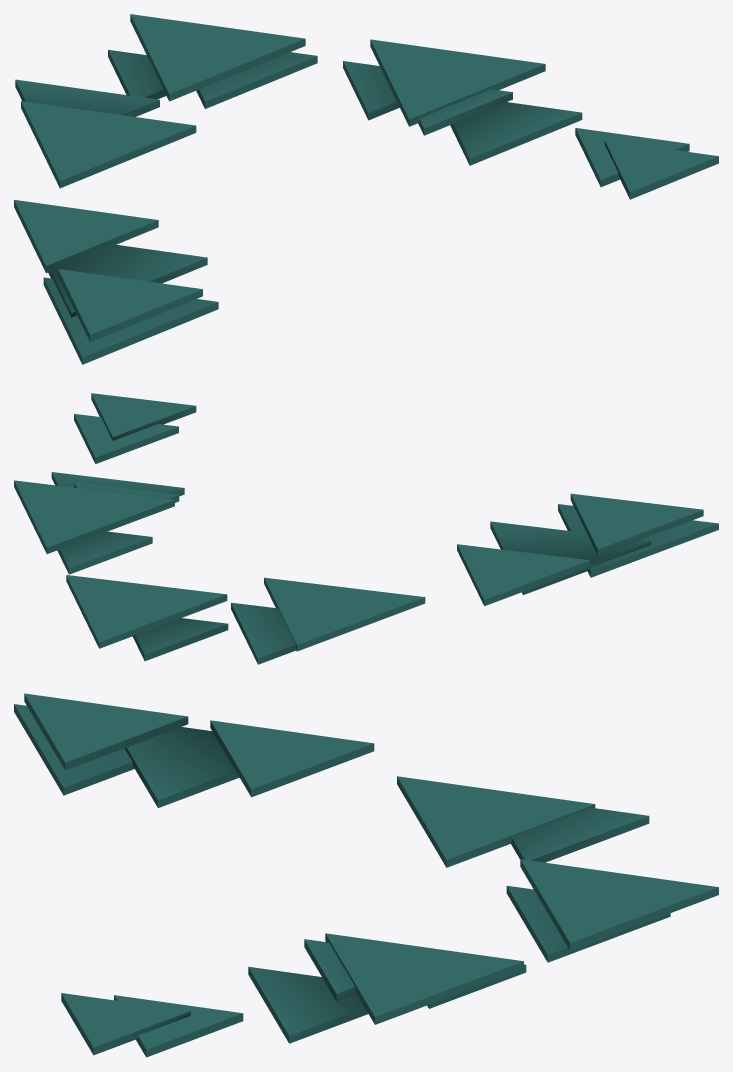
File: decay.broken-glass.glb
3 renders of one model, top to bottom at view 1: azimuth 30°, elevation 25°; view 2: azimuth 150°, elevation 25°; view 3: azimuth 270°, elevation 25°, orthographic. The views are drawn at different scales.
Parts seen in each view (by area): view 1: body; view 2: body; view 3: body.
Part boxes in pixels (box(x1,y1,x2,y2)): body: box(14, 14, 718, 364); body: box(14, 393, 718, 664); body: box(14, 693, 718, 1057).
Bounding box in the file's own units: 1.94 × 0.076 × 1.63.
